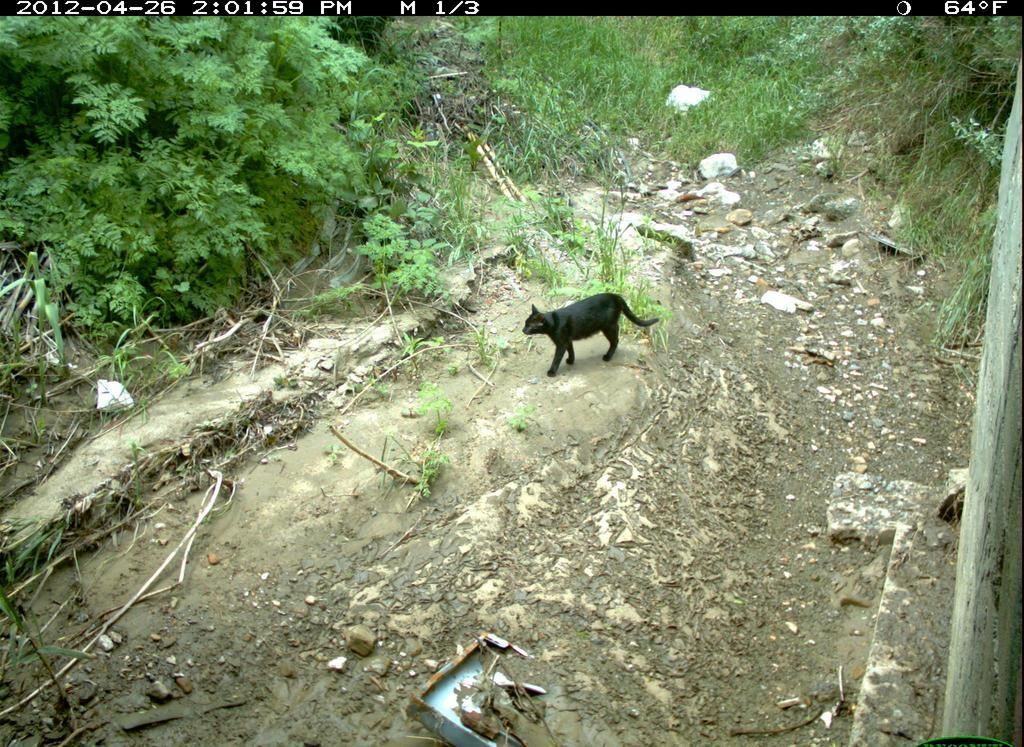cat: (521, 289, 662, 377)
